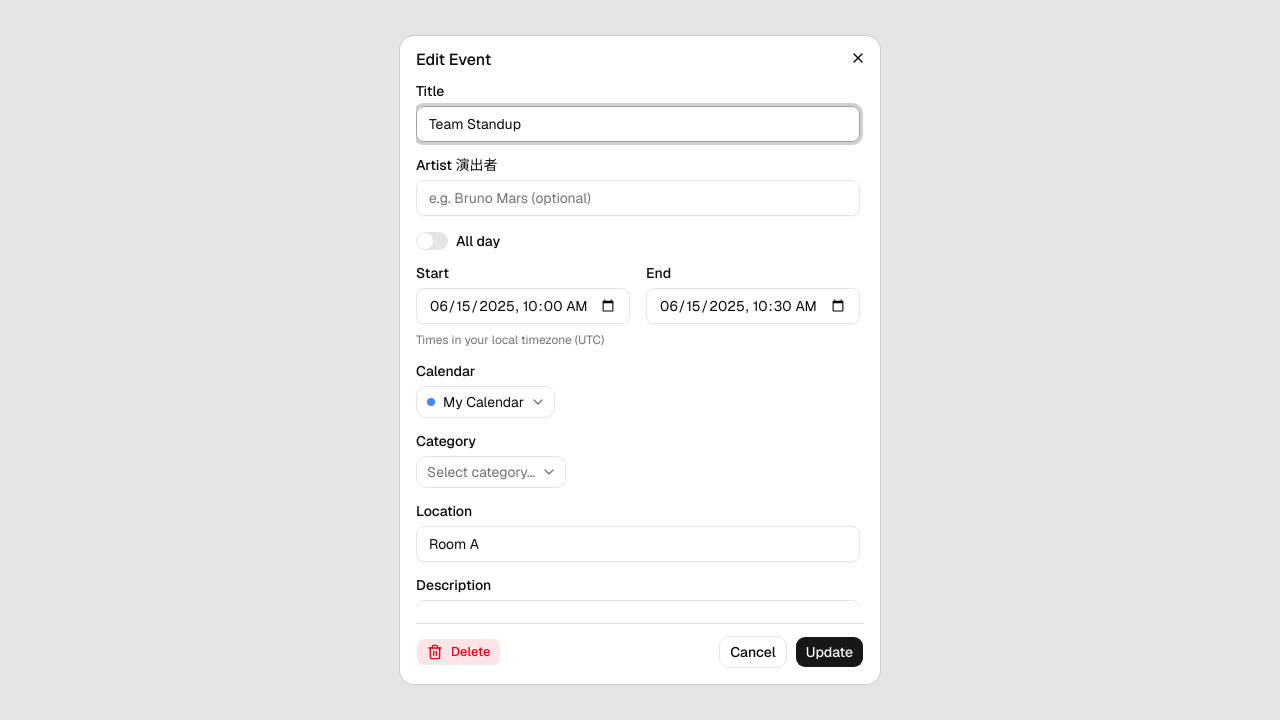
Test: EventModal › prompts to discard when closing with unsaved changes
Type " extra" into the field labelled "Title". click: (638, 124)
box: [416,106,860,142]
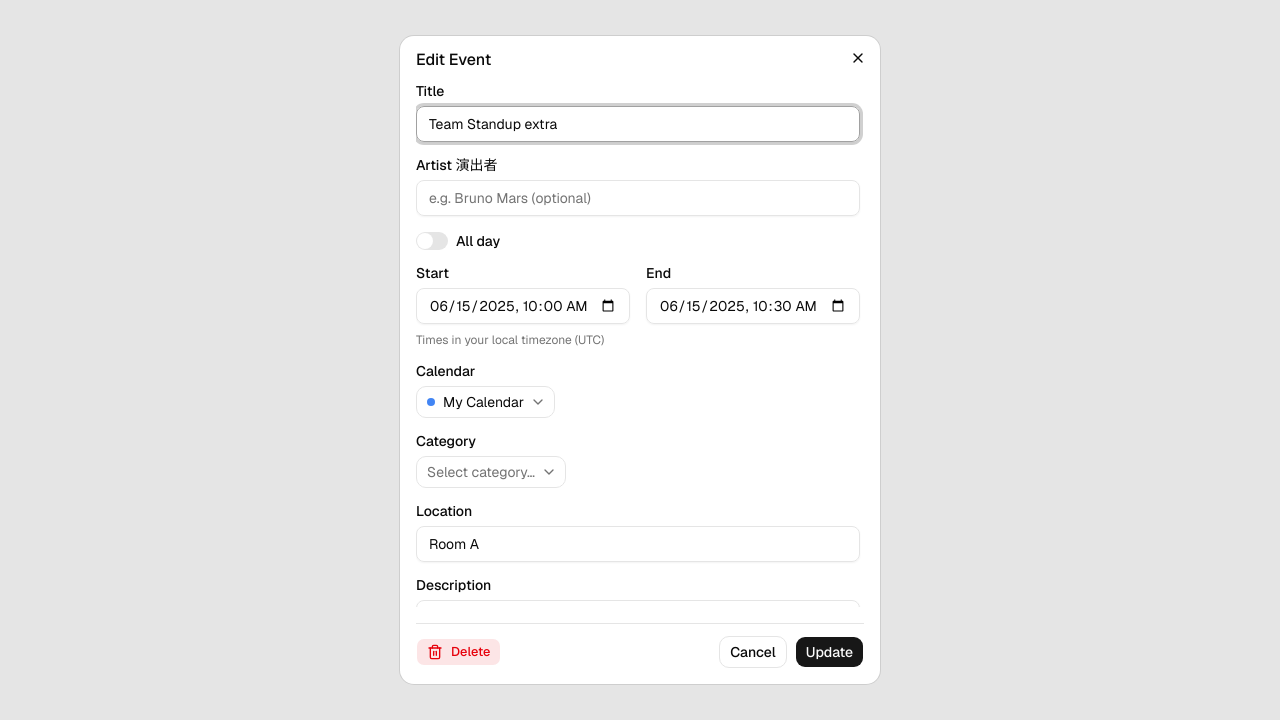
Click the button "Cancel". click: (753, 652)
box: [719,636,787,668]
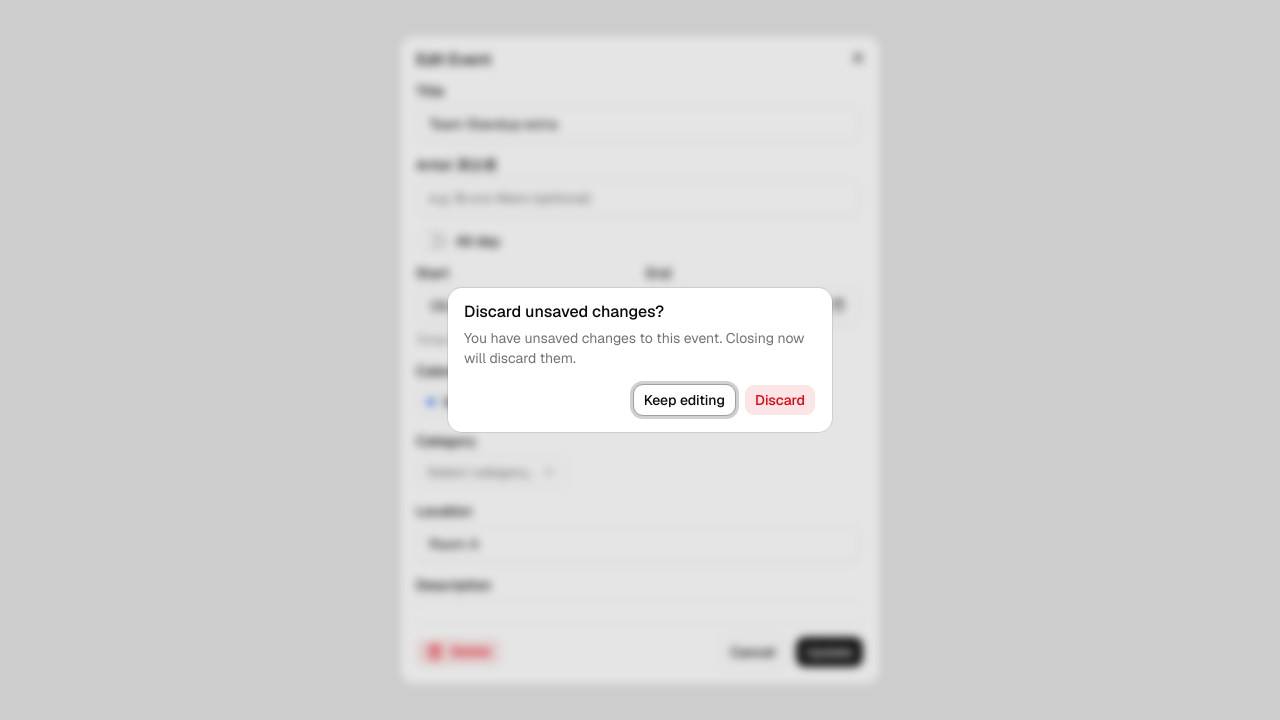
expect the heading "Discard unsaved changes?" is shown: met, box [464,301,664,322]
